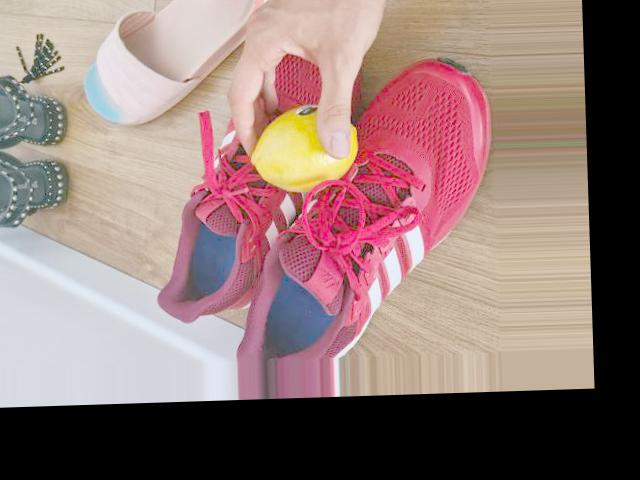lemon: (250, 110, 361, 194)
